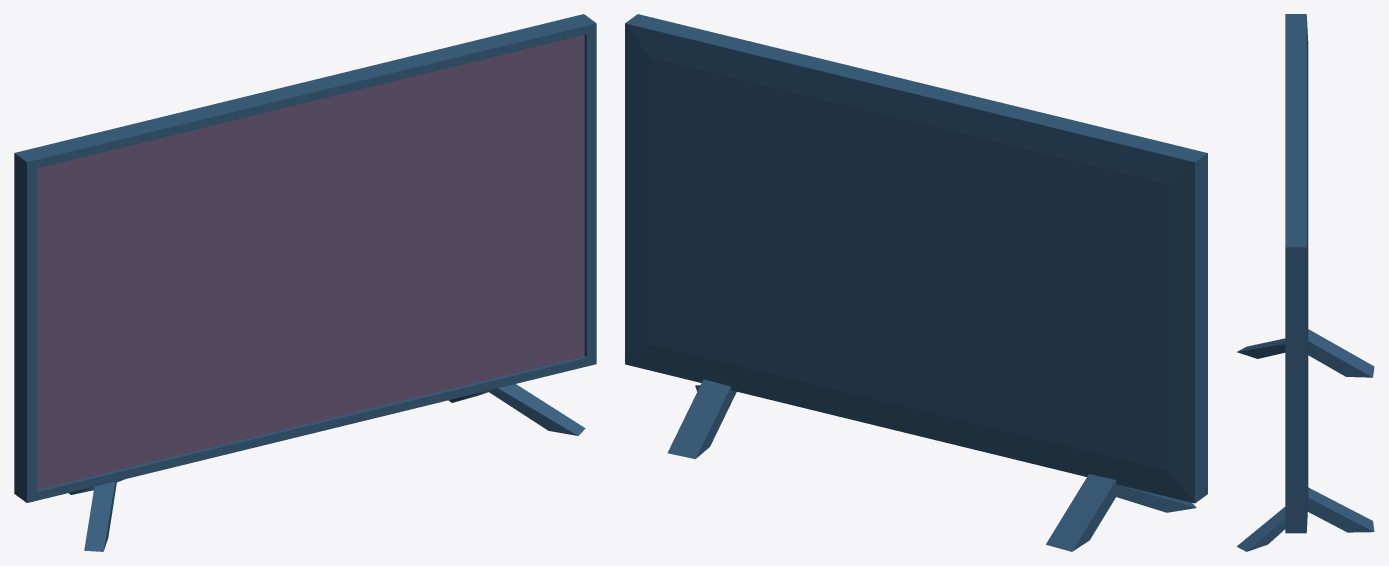
3 views of the same model, side by side, from view 1: azimuth 30°, elevation 25°; view 2: azimuth 150°, elevation 25°; view 3: azimuth 270°, elevation 25° (orthographic). The views are drawn at different scales.
Parts seen in each view (by area): view 1: TV; view 2: TV; view 3: TV.
Part boxes in pixels (bbox=[...]): TV: bbox=[14, 14, 596, 551]; TV: bbox=[625, 14, 1207, 551]; TV: bbox=[1237, 14, 1374, 551].
Size of the model in its own units: 145 by 92.46 by 36.31.
Materials: 1 (1 with a texture image).
